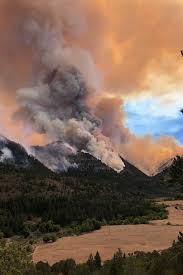smoke: (1, 1, 183, 172)
